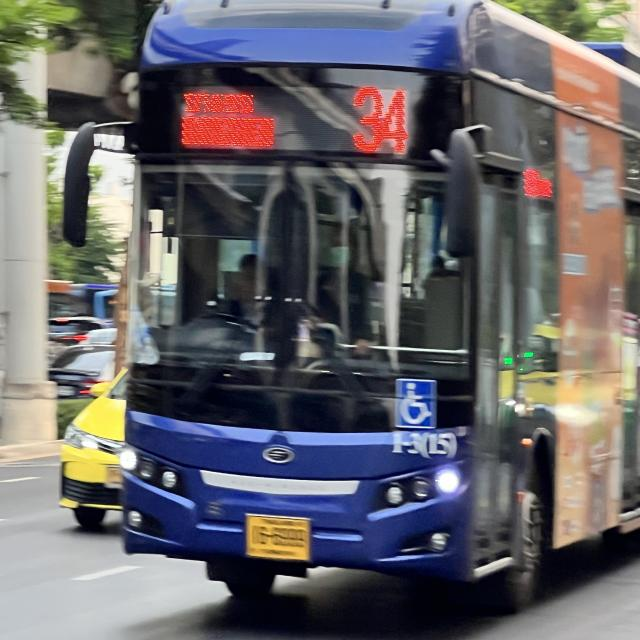Bus-Line-Number: (347, 81, 415, 157)
Destination-Sign-Normal: (175, 81, 279, 161)
TSB-Bus: (111, 0, 640, 615)
